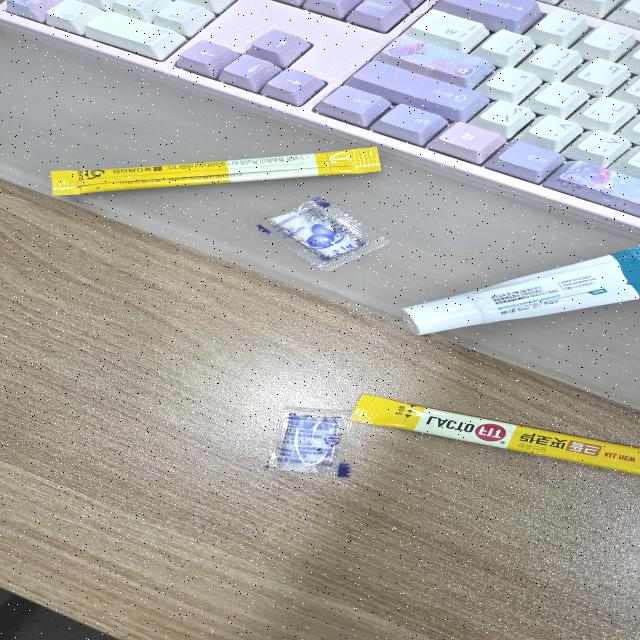lacto: (348, 394, 640, 479), (52, 145, 386, 198)
lib: (400, 246, 640, 337)
salt: (252, 196, 385, 274), (257, 407, 358, 479)
